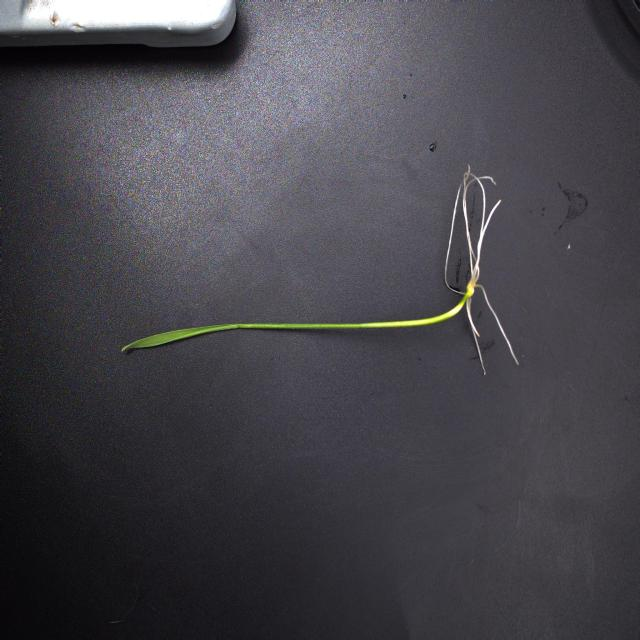leaf: (122, 324, 240, 353)
root: (460, 165, 518, 374), (445, 188, 461, 292)
stem: (122, 290, 472, 351)
